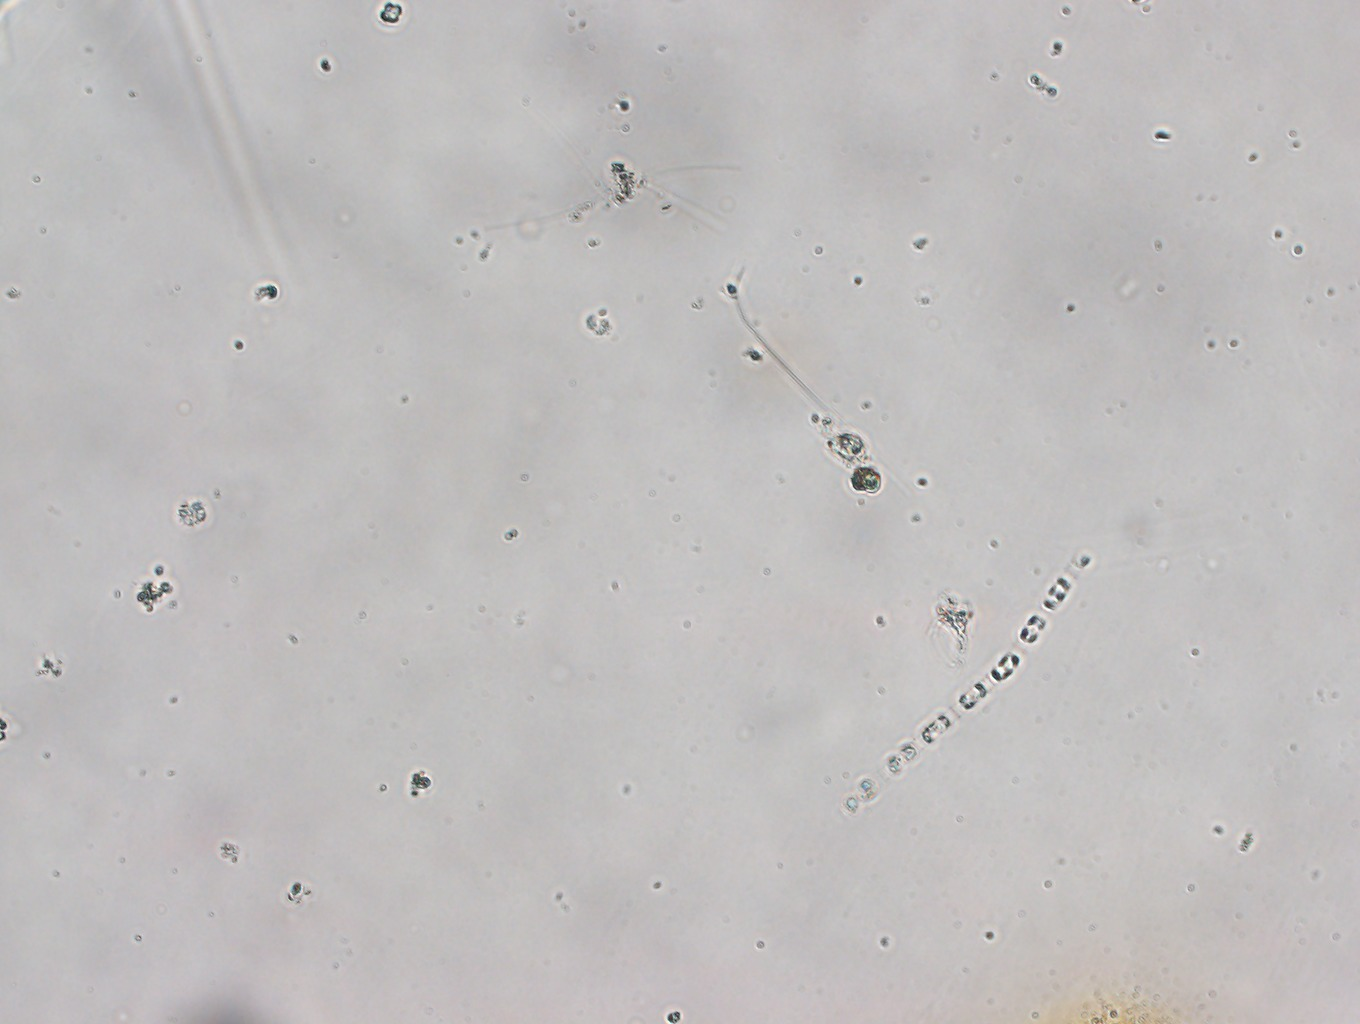skeletonema: (820, 535, 1096, 822)
